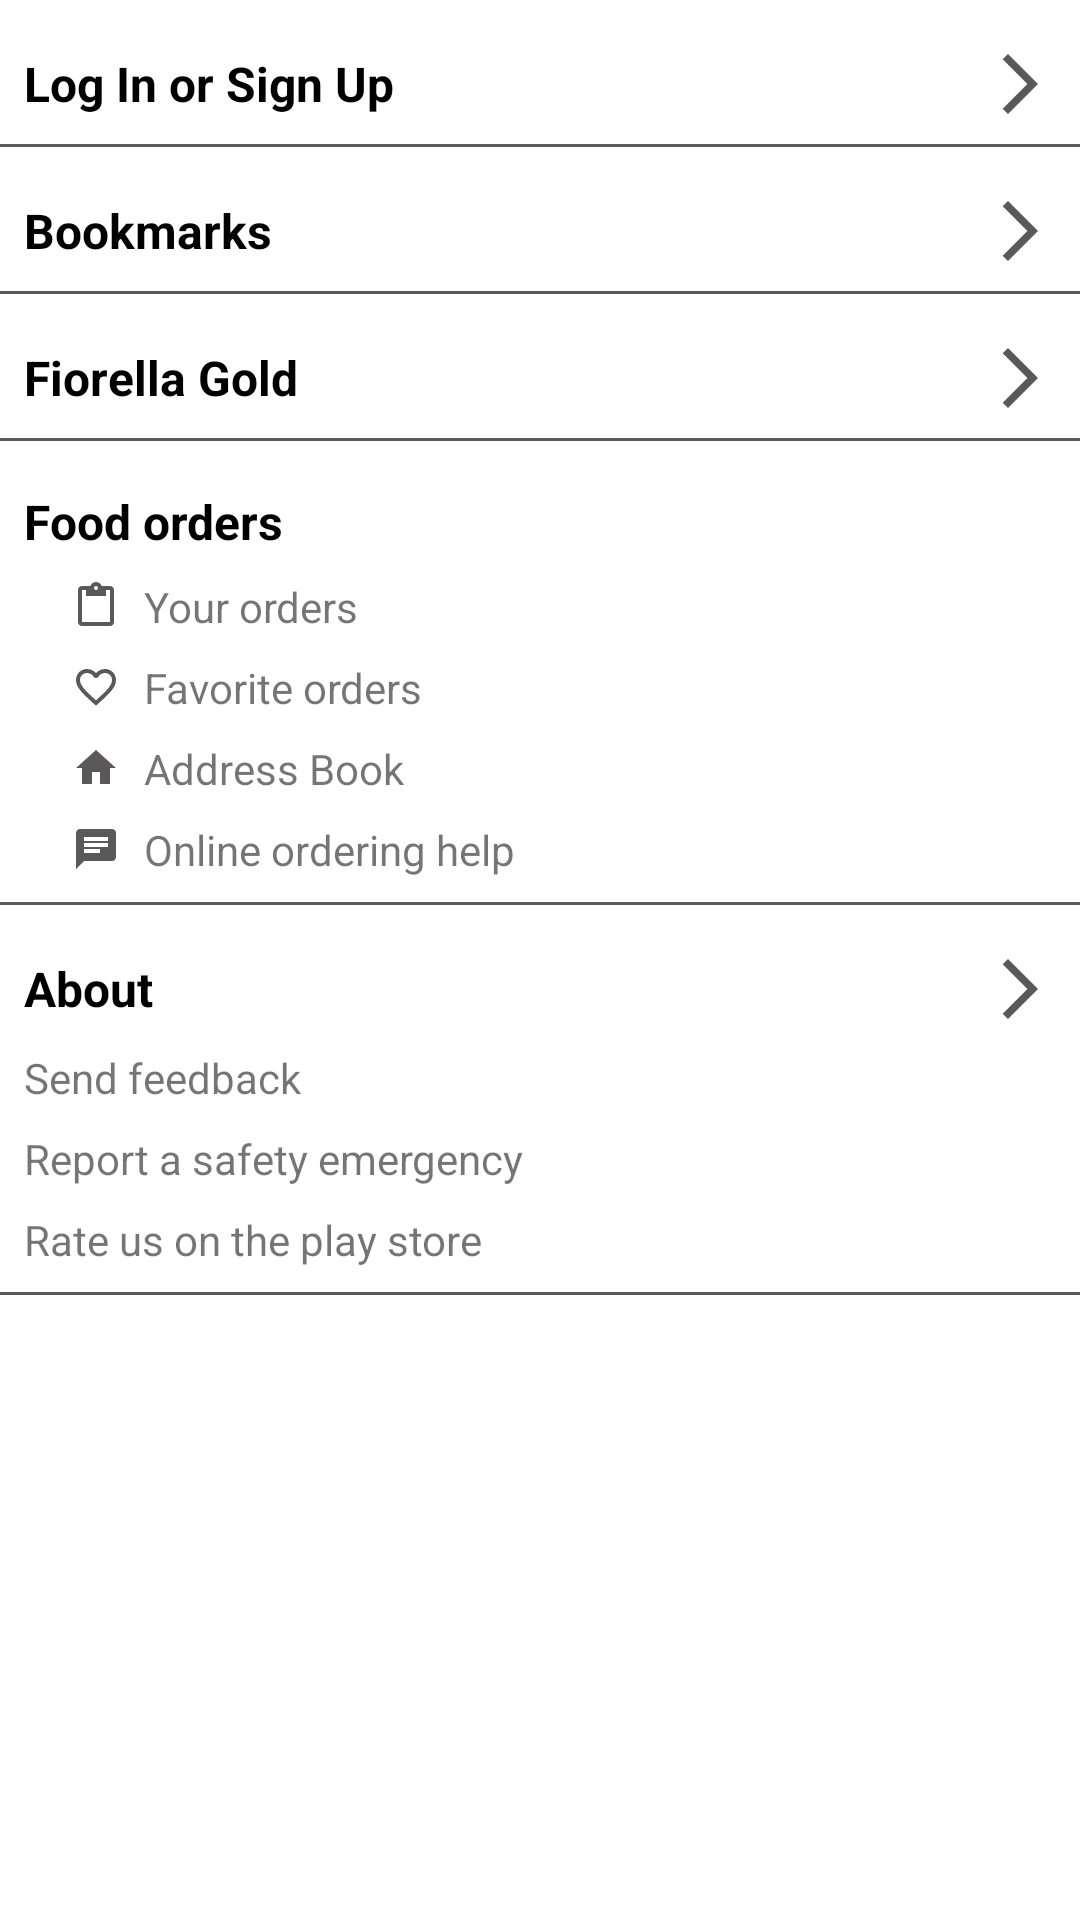

Screen size 1080px×1920px. Icon name, then its center in pixels as [x,y]:
rigth arrow: [1020,84], [1020,231], [1020,378], [1020,989]
